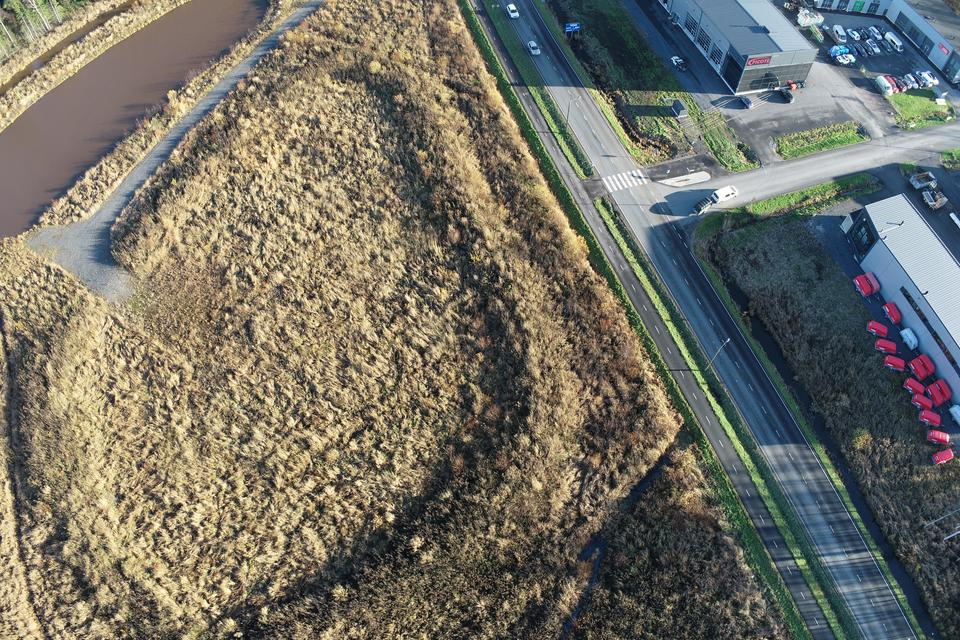intersection: (528, 149, 752, 256)
